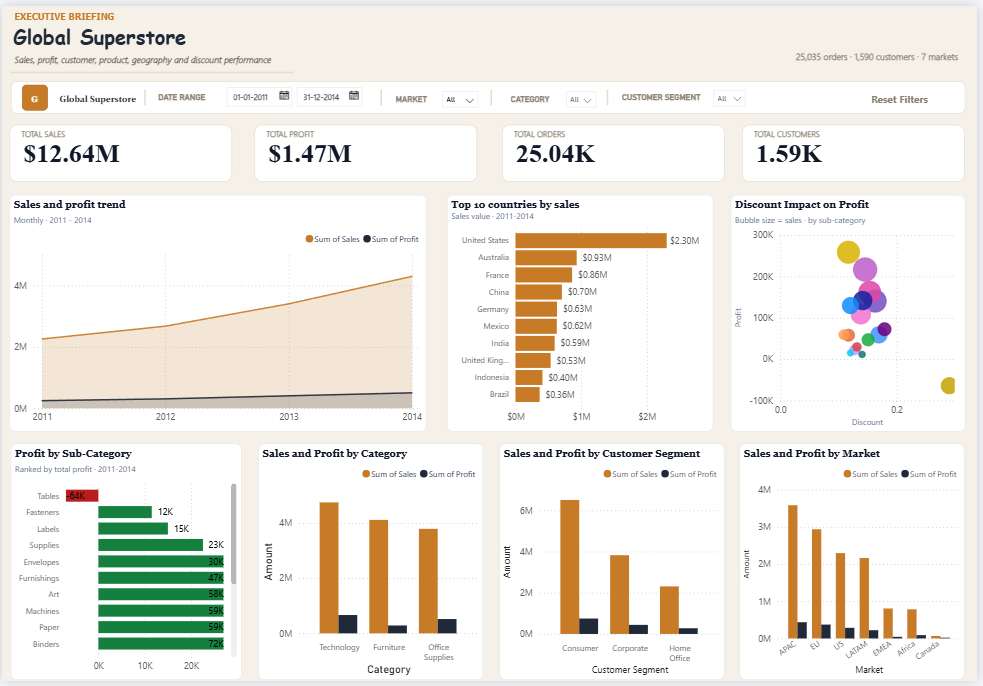

This screenshot's page, from the dashboard's own definition file:
{"tool":"powerbi","page":{"name":"Executive Overview","canvas":[1300,900],"ordinal":0},"visuals":[{"type":"lineChart","title":"Sales and profit trend","fields":{"Category":["Global_Superstore2 1.Order Date.Variation.Datumshierarchie.Jahr","Global_Superstore2 1.Order Date.Variation.Datumshierarchie.Monat"],"Y":["Sum(Global_Superstore2 1.Sales)","Sum(Global_Superstore2 1.Profit)"]},"box":[10,252,556,316],"z":0},{"type":"clusteredColumnChart","title":"Sales and Profit by Category","fields":{"Category":["Global_Superstore2 1.Category"],"Y":["Sum(Global_Superstore2 1.Sales)","Sum(Global_Superstore2 1.Profit)"]},"box":[342,584,300,315],"z":1000},{"type":"clusteredBarChart","title":"Profit by Sub-Category","fields":{"Category":["Global_Superstore2 1.Sub-Category"],"Y":["Sum(Global_Superstore2 1.Profit)"]},"box":[11,584,308,315],"z":2000},{"type":"clusteredColumnChart","title":"Sales and Profit by Market","fields":{"Category":["Global_Superstore2 1.Market"],"Y":["Sum(Global_Superstore2 1.Sales)","Sum(Global_Superstore2 1.Profit)"]},"box":[984,584,300,315],"z":3000},{"type":"clusteredBarChart","title":"Top 10 countries by sales","fields":{"Category":["Global_Superstore2 1.Country"],"Y":["Sum(Global_Superstore2 1.Sales)"]},"box":[594,252,355,316],"z":4000},{"type":"scatterChart","title":"Discount Impact on Profit","fields":{"X":["Avg(Global_Superstore2 1.Discount)"],"Y":["Sum(Global_Superstore2 1.Profit)"],"Size":["Sum(Global_Superstore2 1.Sales)"],"Series":["Global_Superstore2 1.Sub-Category"]},"box":[971,252,313,316],"z":5000},{"type":"clusteredColumnChart","title":"Sales and Profit by Customer Segment","fields":{"Category":["Global_Superstore2 1.Segment"],"Y":["Sum(Global_Superstore2 1.Sales)","Sum(Global_Superstore2 1.Profit)"]},"box":[664,584,300,315],"z":6000},{"type":"textbox","box":[10,17,292,49],"z":7000},{"type":"cardVisual","title":"TOTAL PROFIT","fields":{"Data":["Sum(Global_Superstore2 1.Profit)"]},"box":[336,159,297,76],"z":8000},{"type":"cardVisual","title":"TOTAL ORDERS","fields":{"Data":["Count(Global_Superstore2 1.Order ID)"]},"box":[666,159,297,76],"z":9000},{"type":"shape","box":[11,100,1273,44],"z":10000},{"type":"slicer","title":"Customer Segment","fields":{"Values":["Global_Superstore2 1.Segment"]},"box":[939,102,63,41],"z":11000},{"type":"slicer","title":"Category","fields":{"Values":["Global_Superstore2 1.Category"]},"box":[741,103,60,39],"z":12000},{"type":"slicer","title":"Date Range","fields":{"Values":["Global_Superstore2 1.Order Date"]},"box":[292,103,192,40],"z":13000},{"type":"textbox","box":[71,108,119,30],"z":14000},{"type":"textbox","box":[204,107,88,30],"z":15000},{"type":"shape","box":[176,112,28,21],"z":16000},{"type":"slicer","title":"Market","fields":{"Values":["Global_Superstore2 1.Market"]},"box":[576,104,68,36],"z":17000},{"type":"textbox","box":[520,108,63,30],"z":18000},{"type":"textbox","box":[673,108,78,30],"z":19000},{"type":"textbox","box":[821,107,121,30],"z":20000},{"type":"cardVisual","title":"TOTAL SALES","fields":{"Data":["Sum(Global_Superstore2 1.Sales)"]},"box":[10,159,297,76],"z":21000},{"type":"cardVisual","title":"TOTAL CUSTOMERS","fields":{"Data":["Count(Global_Superstore2 1.Customer ID)"]},"box":[987,159,297,76],"z":22000},{"type":"textbox","box":[11,0,300,33],"z":23000},{"type":"textbox","box":[11,56,424,34],"z":24000},{"type":"shape","box":[11,66,377,44],"z":25000},{"type":"textbox","box":[27,105,34,34],"z":26000},{"type":"shape","box":[492,112,28,21],"z":27000},{"type":"shape","box":[793,112,28,21],"z":28000},{"type":"shape","box":[638,112,28,21],"z":29000},{"type":"actionButton","box":[1150,103,106,34],"z":30000},{"type":"textbox","box":[992,54,288,38],"z":30003}]}

Visuals, with their boxes in screenshot pixels (x1, y1, x2, y2), scaled from the page's 1300x900 canvas onto the 983x686 screenshot:
"Sales and profit trend" lineChart: <bbox>8, 192, 428, 433</bbox>
"Sales and Profit by Category" clusteredColumnChart: <bbox>259, 445, 485, 685</bbox>
"Profit by Sub-Category" clusteredBarChart: <bbox>8, 445, 241, 685</bbox>
"Sales and Profit by Market" clusteredColumnChart: <bbox>744, 445, 971, 685</bbox>
"Top 10 countries by sales" clusteredBarChart: <bbox>449, 192, 718, 433</bbox>
"Discount Impact on Profit" scatterChart: <bbox>734, 192, 971, 433</bbox>
"Sales and Profit by Customer Segment" clusteredColumnChart: <bbox>502, 445, 729, 685</bbox>
textbox: <bbox>8, 13, 228, 50</bbox>
"TOTAL PROFIT" cardVisual: <bbox>254, 121, 479, 179</bbox>
"TOTAL ORDERS" cardVisual: <bbox>504, 121, 728, 179</bbox>
shape: <bbox>8, 76, 971, 110</bbox>
"Customer Segment" slicer: <bbox>710, 78, 758, 109</bbox>
"Category" slicer: <bbox>560, 79, 606, 108</bbox>
"Date Range" slicer: <bbox>221, 79, 366, 109</bbox>
textbox: <bbox>54, 82, 144, 105</bbox>
textbox: <bbox>154, 82, 221, 104</bbox>
shape: <bbox>133, 85, 154, 101</bbox>
"Market" slicer: <bbox>436, 79, 487, 107</bbox>
textbox: <bbox>393, 82, 441, 105</bbox>
textbox: <bbox>509, 82, 568, 105</bbox>
textbox: <bbox>621, 82, 712, 104</bbox>
"TOTAL SALES" cardVisual: <bbox>8, 121, 232, 179</bbox>
"TOTAL CUSTOMERS" cardVisual: <bbox>746, 121, 971, 179</bbox>
textbox: <bbox>8, 0, 235, 25</bbox>
textbox: <bbox>8, 43, 329, 69</bbox>
shape: <bbox>8, 50, 293, 84</bbox>
textbox: <bbox>20, 80, 46, 106</bbox>
shape: <bbox>372, 85, 393, 101</bbox>
shape: <bbox>600, 85, 621, 101</bbox>
shape: <bbox>482, 85, 504, 101</bbox>
actionButton: <bbox>870, 79, 950, 104</bbox>
textbox: <bbox>750, 41, 968, 70</bbox>
